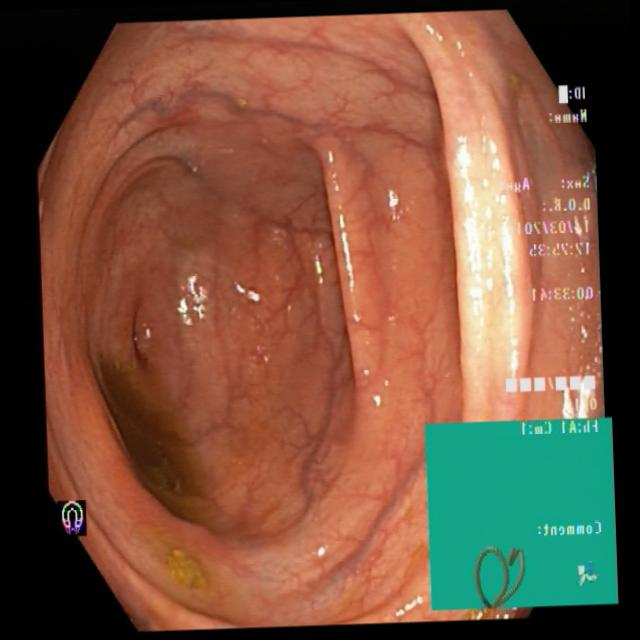normal-cecum: (82, 291, 232, 604)
